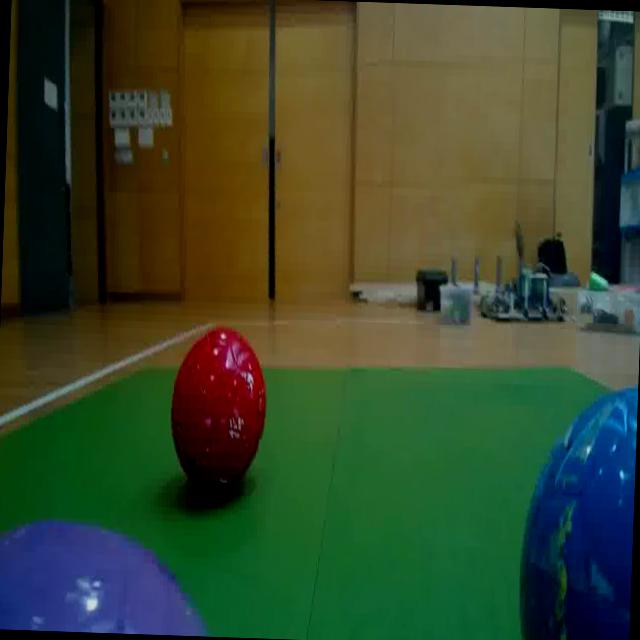blue_ball: (514, 376, 638, 640)
purple_ball: (0, 513, 219, 636)
red_ball: (164, 322, 273, 489)
